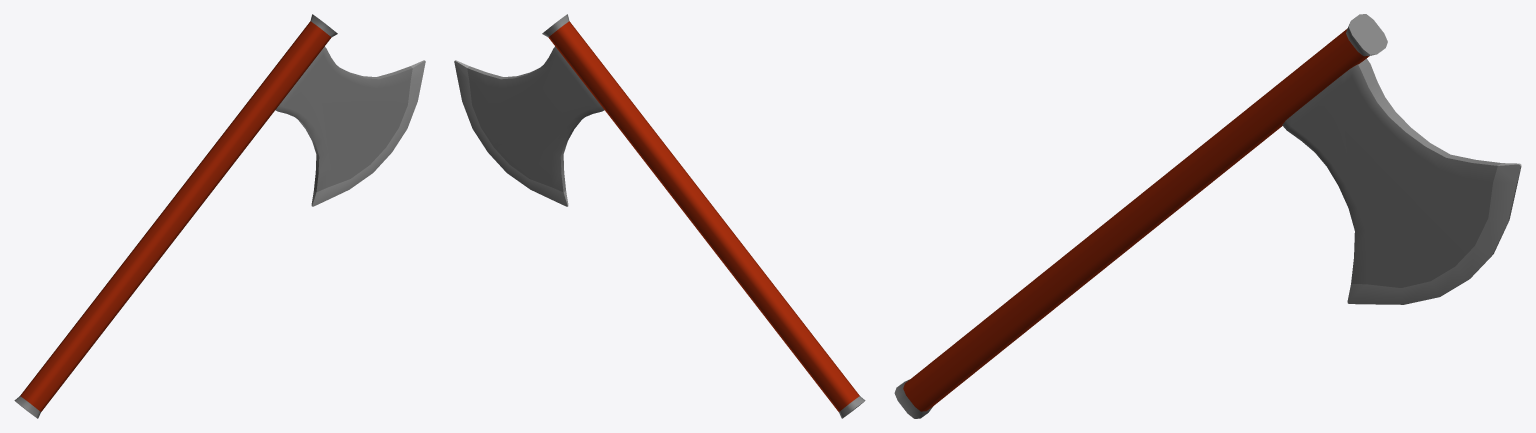
File: Oduncu Baltası.fbx
3 views of the same model, side by side, from view 1: azimuth 30°, elevation 25°; view 2: azimuth 150°, elevation 25°; view 3: azimuth 330°, elevation 25° (orthographic). The views are drawn at different scales.
Parts seen in each view (by area): view 1: Balta2; view 2: Balta2; view 3: Balta2.
Boxes of the visible parts, bbox=[...] form: Balta2: bbox=[14, 14, 425, 418]; Balta2: bbox=[454, 14, 865, 418]; Balta2: bbox=[894, 14, 1521, 418].
Size of the model in its own units: 165 by 128 by 9.86.
